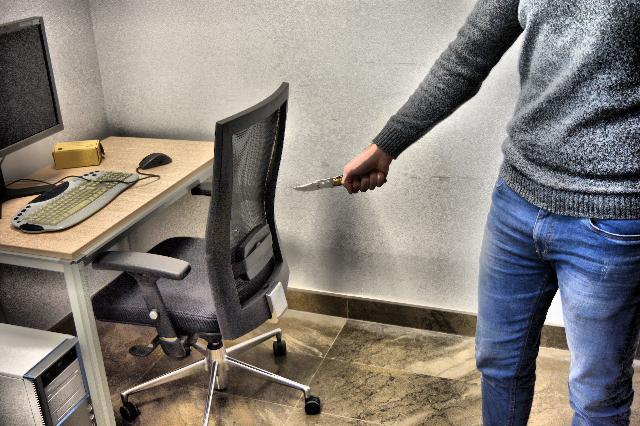knife: (289, 170, 391, 195)
